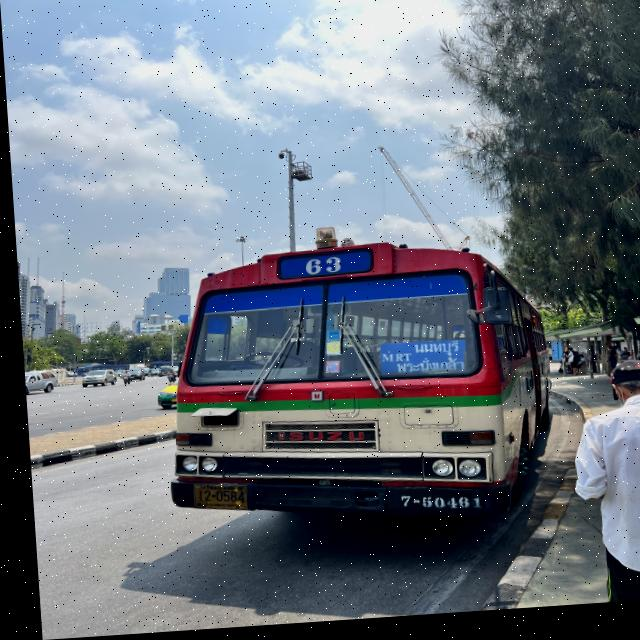BMTA-bus: (144, 223, 553, 545)
Bus-Line-Number: (273, 253, 370, 287)
Destination-Sign-Normal: (374, 343, 461, 381)
